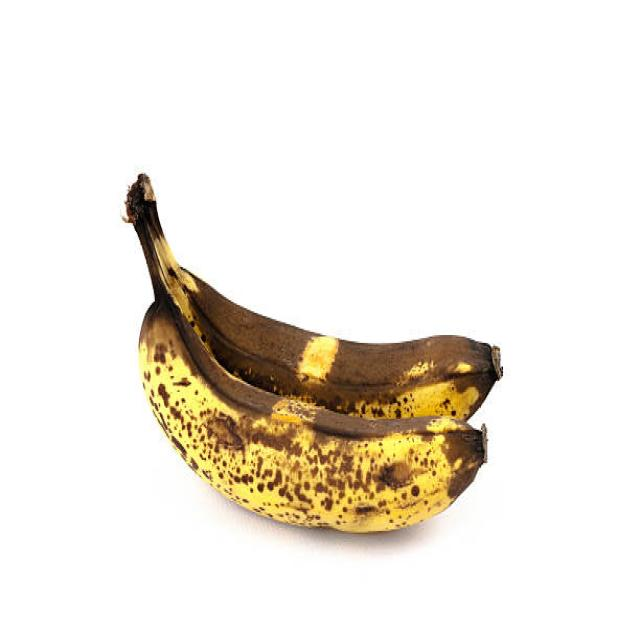overripe: (129, 228, 502, 538)
